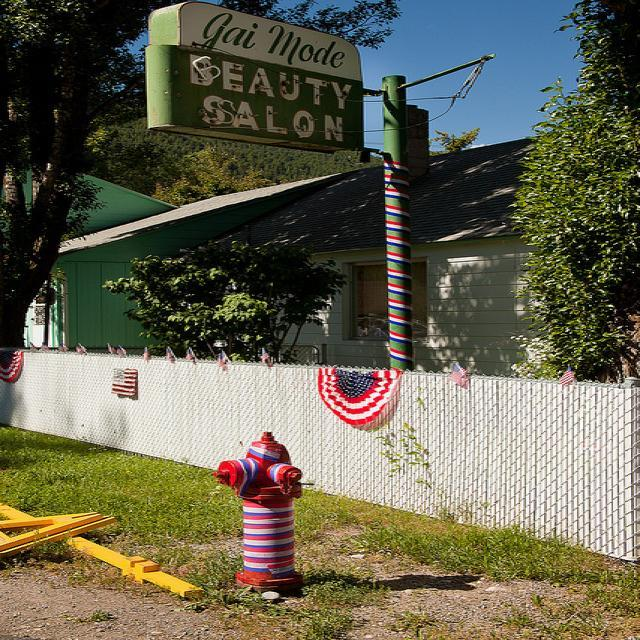fire_hydrant: (216, 433, 303, 593)
